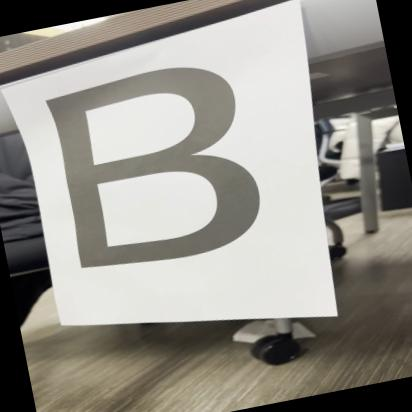seat: (0, 40, 304, 300)
